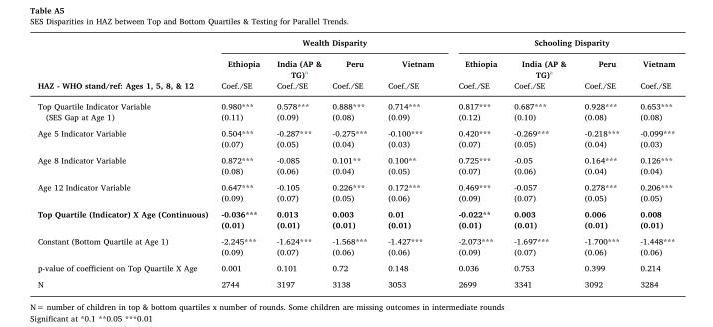table: (36, 36, 674, 288)
table column: (36, 36, 213, 288), (504, 36, 574, 288), (376, 36, 445, 288), (267, 36, 326, 288), (445, 36, 504, 288), (574, 36, 629, 288), (213, 36, 267, 288), (326, 36, 376, 288), (629, 36, 674, 288)
table column header: (36, 36, 674, 95)
table row: (36, 52, 674, 79), (36, 36, 674, 52), (36, 79, 674, 95), (36, 259, 674, 275), (36, 95, 674, 110), (36, 110, 674, 124), (36, 137, 674, 151), (36, 164, 674, 178), (36, 191, 674, 205), (36, 218, 674, 232), (36, 245, 674, 259), (36, 124, 674, 137), (36, 151, 674, 164), (36, 178, 674, 191), (36, 205, 674, 218), (36, 232, 674, 245), (36, 275, 674, 288)
table spanning cell: (36, 36, 213, 95), (36, 124, 213, 151), (36, 151, 213, 178), (36, 178, 213, 205), (36, 205, 213, 232), (36, 232, 213, 259), (213, 36, 445, 52), (445, 36, 674, 52), (504, 52, 574, 95), (376, 52, 445, 95), (267, 52, 326, 95), (445, 52, 504, 95), (574, 52, 629, 95), (213, 52, 267, 95), (326, 52, 376, 95), (629, 52, 674, 95)
